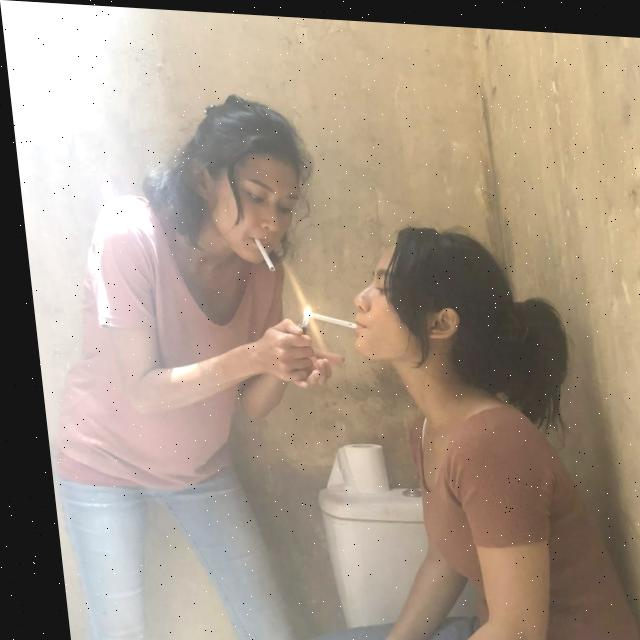cigarette: (302, 309, 351, 325), (249, 236, 269, 269)
